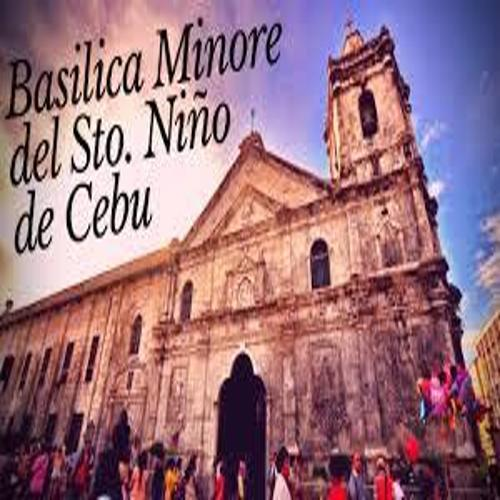Sto. Nino Basilica Church: (181, 12, 479, 482)
